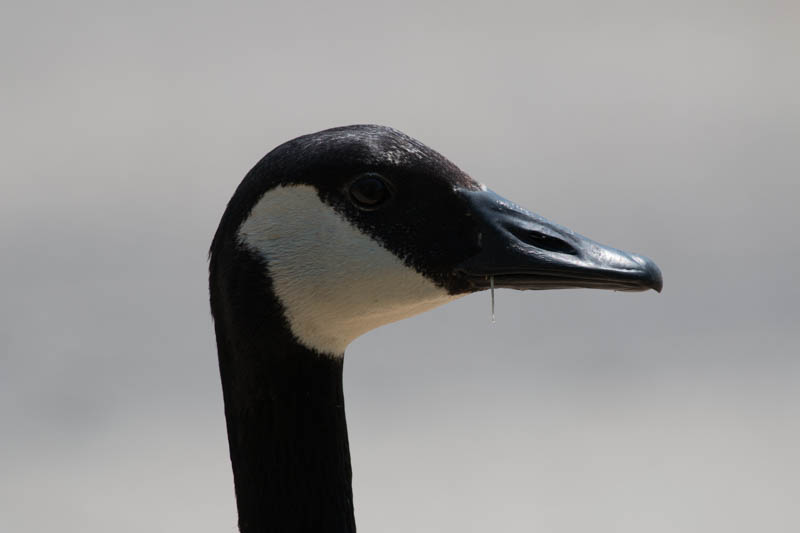goose-head: (209, 125, 664, 357)
